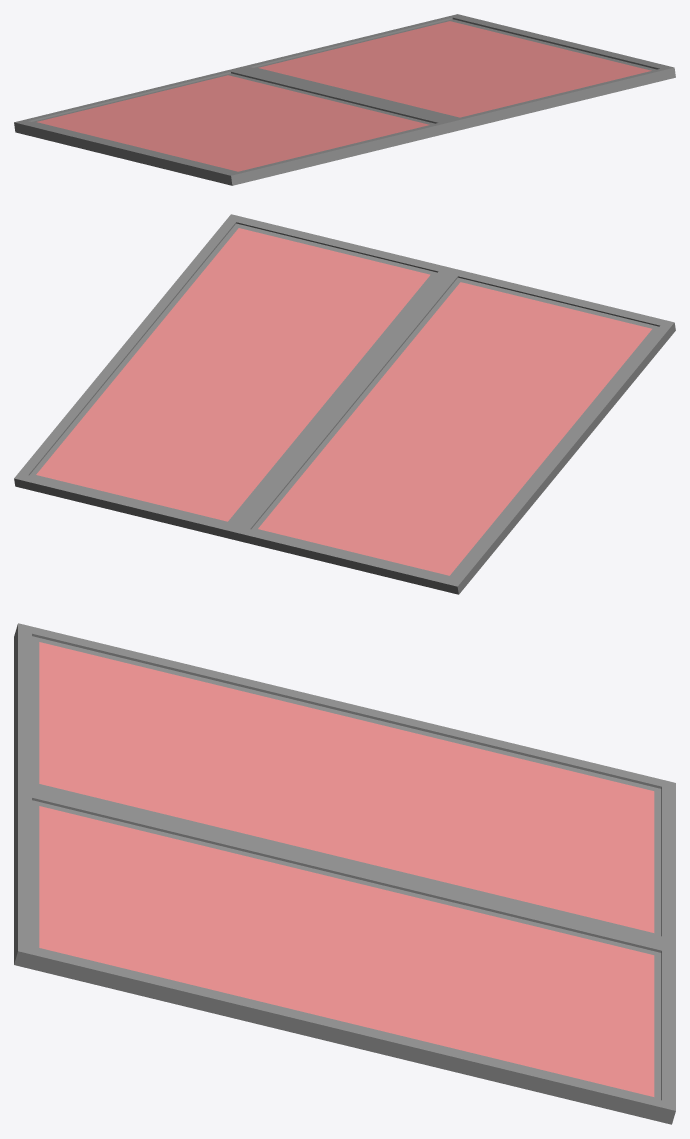
File: S_Envi_Umeda_Prop_Platform_Merge_11a.gltf
3 views of the same model, one above another, from view 1: azimuth 30°, elevation 25°; view 2: azimuth 150°, elevation 25°; view 3: azimuth 270°, elevation 25° (orthographic). The views are drawn at different scales.
Visible parts, largest first — view 1: S_Envi_Umeda_Prop_Platform_Merge_11a; view 2: S_Envi_Umeda_Prop_Platform_Merge_11a; view 3: S_Envi_Umeda_Prop_Platform_Merge_11a.
Boxes of the visible parts, x1,y1,x2,y2 form: S_Envi_Umeda_Prop_Platform_Merge_11a: (14, 14, 675, 185); S_Envi_Umeda_Prop_Platform_Merge_11a: (14, 214, 675, 594); S_Envi_Umeda_Prop_Platform_Merge_11a: (14, 623, 675, 1124).
Size of the model in its own units: 3.89 by 0.9587 by 3.31.
